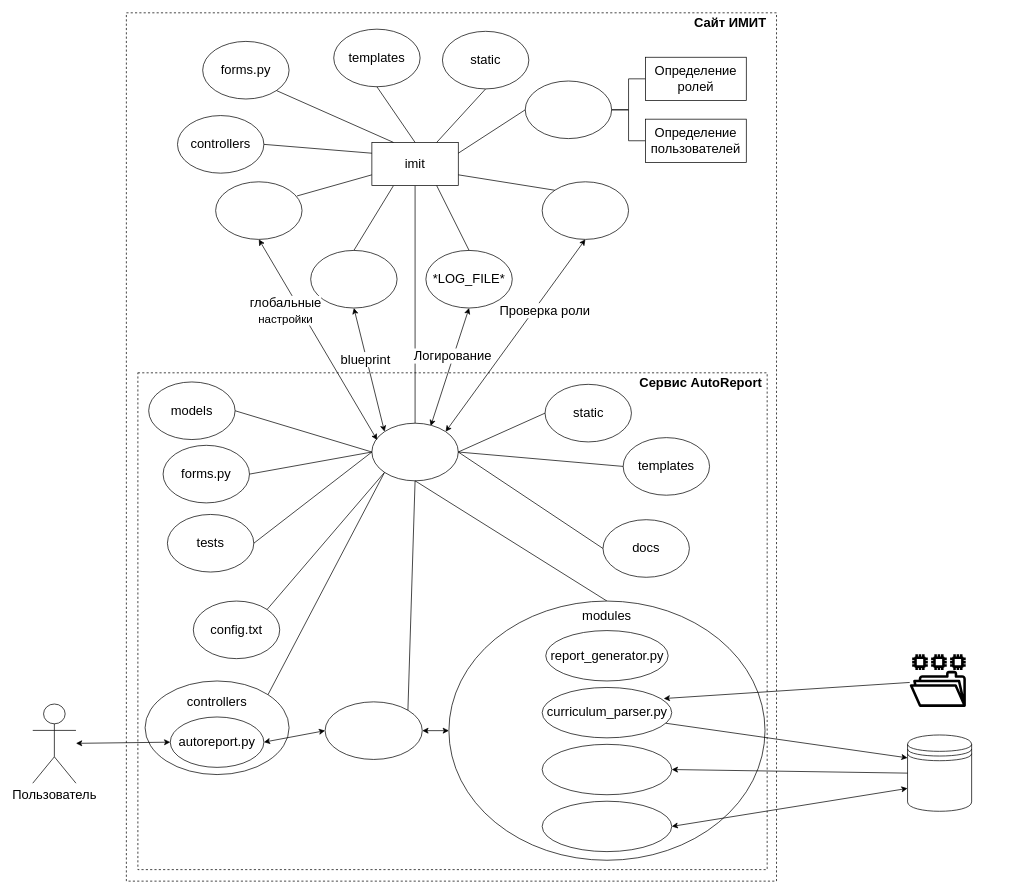
The diagram is 1027 pixels wide and 894 high, and some of its shapes have lost their labels. The shapes that lost their labels are listed below. From the top down, each one's centre as x and y in pixels, then its label:
At point (568, 109): "models.py".
At point (258, 210): "config.py".
At point (585, 210): "utils.py".
At point (353, 279): "__init__.py".
At point (414, 451): "Autoreport".
At point (937, 680): "Файловая система ИМИТ".
At point (373, 730): "funcs.py".
At point (606, 769): "curriculum_getter.py".
At point (939, 772): "БД".
At point (606, 826): "report_state.py".
